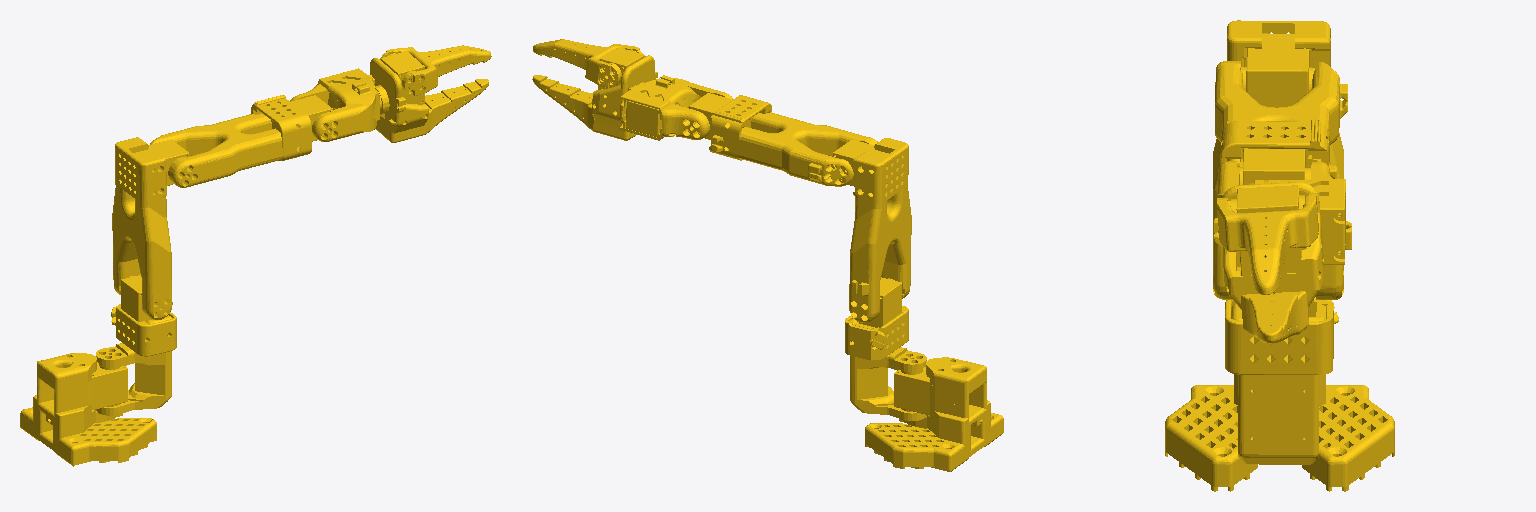
robot.urdf — Romanbo:
<?xml version="1.0" encoding="utf-8"?>
<!-- Romanbo arm - generated from SolidWorks assembly (measured joint axes).
     Joint axes were measured on the actual servo output shafts,
     so the changed servos are taken into account.
     NOTE: Zero configuration re-adjusted so that the former joint values
     (pan=-0.2, lift=0.98, elbow=0.49, wrist_flex=0.7, wrist_roll=1.65,
     gripper=-0.62) now correspond to joint positions of 0.
     Limits were shifted accordingly (-q0) to preserve the physical range. -->
<robot name="Romanbo">

  <material name="3d_printed"><color rgba="1.0 0.82 0.12 1.0"/></material>
  <material name="sts3215"><color rgba="0.1 0.1 0.1 1.0"/></material>

  <link name="base_link">
    <inertial>
      <origin xyz="0.0190056 -0.00000693 0.02669374" rpy="0 0 0"/>
      <mass value="0.15717756"/>
      <inertia ixx="0.00014067" ixy="-0.00000003" ixz="0.00001945" iyy="0.00011979" iyz="0" izz="0.00015252"/>
    </inertial>
    <visual>
      <origin xyz="0 0 0" rpy="0 0 0"/>
      <geometry><mesh filename="meshes/Romanbo_base.STL"/></geometry>
      <material name="3d_printed"/>
    </visual>
    <collision>
      <origin xyz="0 0 0" rpy="0 0 0"/>
      <geometry><mesh filename="meshes/Romanbo_base.STL"/></geometry>
    </collision>
  </link>

  <joint name="Romanbo_shoulder_pan" type="revolute">
    <origin xyz="0.04507171 0.00001297 0.04522959" rpy="3.14159265 0 -2.94159266"/>
    <parent link="base_link"/>
    <child link="shoulder_link"/>
    <axis xyz="0 0 1"/>
    <limit effort="10" velocity="10" lower="-1.91986" upper="1.91986"/>
  </joint>
  <transmission name="Romanbo_shoulder_pan_trans">
    <type>transmission_interface/SimpleTransmission</type>
    <joint name="Romanbo_shoulder_pan"><hardwareInterface>hardware_interface/PositionJointInterface</hardwareInterface></joint>
    <actuator name="motor1"><hardwareInterface>hardware_interface/PositionJointInterface</hardwareInterface><mechanicalReduction>1</mechanicalReduction></actuator>
  </transmission>

  <link name="shoulder_link">
    <inertial>
      <origin xyz="-0.03096877 -0.00697124 -0.03073694" rpy="0 0 0"/>
      <mass value="0.11234364"/>
      <inertia ixx="0.00005195" ixy="0.00000012" ixz="-0.00000289" iyy="0.0000519" iyz="-0.00000096" izz="0.00002905"/>
    </inertial>
    <visual>
      <origin xyz="0.04507171 -0.00001297 0.04522959" rpy="3.14159265 0 3.14159265"/>
      <geometry><mesh filename="meshes/Romanbo_shoulder.STL"/></geometry>
      <material name="3d_printed"/>
    </visual>
    <collision>
      <origin xyz="0.04507171 -0.00001297 0.04522959" rpy="3.14159265 0 3.14159265"/>
      <geometry><mesh filename="meshes/Romanbo_shoulder.STL"/></geometry>
    </collision>
  </link>

  <joint name="Romanbo_shoulder_lift" type="revolute">
    <origin xyz="-0.02971501 -0.00649727 -0.0724" rpy="-1.57079633 0.98 0.21526495"/>
    <parent link="shoulder_link"/>
    <child link="upper_arm_link"/>
    <axis xyz="0 0 1"/>
    <limit effort="10" velocity="10" lower="-1.74533" upper="1.74533"/>
  </joint>
  <transmission name="Romanbo_shoulder_lift_trans">
    <type>transmission_interface/SimpleTransmission</type>
    <joint name="Romanbo_shoulder_lift"><hardwareInterface>hardware_interface/PositionJointInterface</hardwareInterface></joint>
    <actuator name="motor2"><hardwareInterface>hardware_interface/PositionJointInterface</hardwareInterface><mechanicalReduction>1</mechanicalReduction></actuator>
  </transmission>

  <link name="upper_arm_link">
    <inertial>
      <origin xyz="0.05925617 0.04182487 -0.00022979" rpy="0 0 0"/>
      <mass value="0.15086353"/>
      <inertia ixx="0.00007472" ixy="-0.00003855" ixz="-0.00001244" iyy="0.00017003" iyz="-0.00000873" izz="0.00014543"/>
    </inertial>
    <visual>
      <origin xyz="0.07444572 -0.11762959 -0.00964027" rpy="1.57079633 -0.21526495 3.14159265"/>
      <geometry><mesh filename="meshes/Romanbo_upper_arm.STL"/></geometry>
      <material name="3d_printed"/>
    </visual>
    <collision>
      <origin xyz="0.07444572 -0.11762959 -0.00964027" rpy="1.57079633 -0.21526495 3.14159265"/>
      <geometry><mesh filename="meshes/Romanbo_upper_arm.STL"/></geometry>
    </collision>
  </link>

  <joint name="Romanbo_elbow_flex" type="revolute">
    <origin xyz="0.07960794 0.08406103 -0.0002" rpy="3.14159265 0 2.65159265"/>
    <parent link="upper_arm_link"/>
    <child link="lower_arm_link"/>
    <axis xyz="0 0 -1"/>
    <limit effort="10" velocity="10" lower="-1.69" upper="1.69"/>
  </joint>
  <transmission name="Romanbo_elbow_flex_trans">
    <type>transmission_interface/SimpleTransmission</type>
    <joint name="Romanbo_elbow_flex"><hardwareInterface>hardware_interface/PositionJointInterface</hardwareInterface></joint>
    <actuator name="motor3"><hardwareInterface>hardware_interface/PositionJointInterface</hardwareInterface><mechanicalReduction>1</mechanicalReduction></actuator>
  </transmission>

  <link name="lower_arm_link">
    <inertial>
      <origin xyz="0.06643411 0.03979496 0.00005434" rpy="0 0 0"/>
      <mass value="0.14069204"/>
      <inertia ixx="0.00008423" ixy="0.00003966" ixz="0.00000372" iyy="0.00009504" iyz="-0.00000762" izz="0.00009773"/>
    </inertial>
    <visual>
      <origin xyz="0.00516222 -0.20169063 0.00944027" rpy="-1.57079633 0.21526495 0"/>
      <geometry><mesh filename="meshes/Romanbo_lower_arm.STL"/></geometry>
      <material name="3d_printed"/>
    </visual>
    <collision>
      <origin xyz="0.00516222 -0.20169063 0.00944027" rpy="-1.57079633 0.21526495 0"/>
      <geometry><mesh filename="meshes/Romanbo_lower_arm.STL"/></geometry>
    </collision>
  </link>

  <joint name="Romanbo_wrist_flex" type="revolute">
    <origin xyz="0.11429786 0.07147737 -0.0002" rpy="3.14159265 0 2.44159265"/>
    <parent link="lower_arm_link"/>
    <child link="wrist_link"/>
    <axis xyz="0 0 1"/>
    <limit effort="10" velocity="10" lower="-1.65806" upper="1.65806"/>
  </joint>
  <transmission name="Romanbo_wrist_flex_trans">
    <type>transmission_interface/SimpleTransmission</type>
    <joint name="Romanbo_wrist_flex"><hardwareInterface>hardware_interface/PositionJointInterface</hardwareInterface></joint>
    <actuator name="motor4"><hardwareInterface>hardware_interface/PositionJointInterface</hardwareInterface><mechanicalReduction>1</mechanicalReduction></actuator>
  </transmission>

  <link name="wrist_link">
    <inertial>
      <origin xyz="-0.01172768 0.03274155 0.00740688" rpy="0 0 0"/>
      <mass value="0.06488907"/>
      <inertia ixx="0.00003049" ixy="0.00000157" ixz="0.00000305" iyy="0.00002306" iyz="-0.00000174" izz="0.00001822"/>
    </inertial>
    <visual>
      <origin xyz="0.10913564 -0.273168 -0.00964027" rpy="1.57079633 -0.21526495 3.14159265"/>
      <geometry><mesh filename="meshes/Romanbo_wrist.STL"/></geometry>
      <material name="3d_printed"/>
    </visual>
    <collision>
      <origin xyz="0.10913564 -0.273168 -0.00964027" rpy="1.57079633 -0.21526495 3.14159265"/>
      <geometry><mesh filename="meshes/Romanbo_wrist.STL"/></geometry>
    </collision>
  </link>

  <joint name="Romanbo_wrist_roll" type="revolute">
    <origin xyz="-0.01404151 0.03907096 0.0003" rpy="-1.57079634 -1.28897173 0.34941774"/>
    <parent link="wrist_link"/>
    <child link="gripper_link"/>
    <axis xyz="0 0 -1"/>
    <limit effort="10" velocity="10" lower="-2.79253" upper="2.79253"/>
  </joint>
  <transmission name="Romanbo_wrist_roll_trans">
    <type>transmission_interface/SimpleTransmission</type>
    <joint name="Romanbo_wrist_roll"><hardwareInterface>hardware_interface/PositionJointInterface</hardwareInterface></joint>
    <actuator name="motor5"><hardwareInterface>hardware_interface/PositionJointInterface</hardwareInterface><mechanicalReduction>1</mechanicalReduction></actuator>
  </transmission>

  <link name="gripper_link">
    <inertial>
      <origin xyz="-0.00086595 -0.00566132 0.04465906" rpy="0 0 0"/>
      <mass value="0.0917235"/>
      <inertia ixx="0.0000426" ixy="0.00000357" ixz="-0.00000834" iyy="0.00003949" iyz="0.00000776" izz="0.00003688"/>
    </inertial>
    <visual>
      <origin xyz="-0.01065811 -0.00795826 -0.33554084" rpy="-0.07767486 -0.34102078 0.0260248"/>
      <geometry><mesh filename="meshes/Romanbo_gripper.STL"/></geometry>
      <material name="3d_printed"/>
    </visual>
    <collision>
      <origin xyz="-0.01065811 -0.00795826 -0.33554084" rpy="-0.07767486 -0.34102078 0.0260248"/>
      <geometry><mesh filename="meshes/Romanbo_gripper.STL"/></geometry>
    </collision>
  </link>

  <joint name="Romanbo_gripper" type="revolute">
    <origin xyz="0.00423498 0.01954648 0.04158296" rpy="1.57079633 0.62391439 -1.78416044"/>
    <parent link="gripper_link"/>
    <child link="moving_jaw_link"/>
    <axis xyz="0 0 1"/>
    <limit effort="10" velocity="10" lower="-0.33993" upper="1.57993"/>
  </joint>
  <transmission name="Romanbo_gripper_trans">
    <type>transmission_interface/SimpleTransmission</type>
    <joint name="Romanbo_gripper"><hardwareInterface>hardware_interface/PositionJointInterface</hardwareInterface></joint>
    <actuator name="motor6"><hardwareInterface>hardware_interface/PositionJointInterface</hardwareInterface><mechanicalReduction>1</mechanicalReduction></actuator>
  </transmission>

  <link name="moving_jaw_link">
    <inertial>
      <origin xyz="-0.0179688 0.02422444 0.00093306" rpy="0 0 0"/>
      <mass value="0.02056095"/>
      <inertia ixx="0.00000816" ixy="-0.00000139" ixz="0.00000369" iyy="0.00000855" iyz="0.00000105" izz="0.00000674"/>
    </inertial>
    <visual>
      <origin xyz="0.03151062 -0.37700335 0.00873128" rpy="0.55274908 1.1568459 2.16372407"/>
      <geometry><mesh filename="meshes/Romanbo_jaw.STL"/></geometry>
      <material name="3d_printed"/>
    </visual>
    <collision>
      <origin xyz="0.03151062 -0.37700335 0.00873128" rpy="0.55274908 1.1568459 2.16372407"/>
      <geometry><mesh filename="meshes/Romanbo_jaw.STL"/></geometry>
    </collision>
  </link>

</robot>

--- Render facts (derived) ---
The picture shows the robot from 3 angles, left to right: view 1: azimuth 30°, elevation 25°; view 2: azimuth 150°, elevation 25°; view 3: azimuth 270°, elevation 25°; orthographic projection.
Robot: Romanbo — 7 links, 6 joints (6 revolute); root link base_link; default pose: all joints at 0.
Links seen in each view (by area): view 1: base_link, upper_arm_link, lower_arm_link, shoulder_link, gripper_link, wrist_link, moving_jaw_link; view 2: base_link, upper_arm_link, lower_arm_link, shoulder_link, wrist_link, gripper_link, moving_jaw_link; view 3: base_link, shoulder_link, lower_arm_link, upper_arm_link, gripper_link, moving_jaw_link, wrist_link.
Boxes of the visible links, x1,y1,x2,y2 form: base_link: [20, 353, 156, 466]; upper_arm_link: [112, 137, 188, 319]; lower_arm_link: [150, 95, 332, 187]; shoulder_link: [96, 275, 176, 415]; gripper_link: [370, 51, 488, 142]; wrist_link: [290, 68, 381, 141]; moving_jaw_link: [380, 45, 491, 95]; base_link: [865, 357, 1003, 471]; upper_arm_link: [833, 138, 911, 322]; lower_arm_link: [689, 93, 877, 186]; shoulder_link: [845, 277, 926, 420]; wrist_link: [619, 75, 732, 140]; gripper_link: [532, 47, 657, 140]; moving_jaw_link: [533, 39, 642, 87]; base_link: [1165, 374, 1394, 491]; shoulder_link: [1225, 297, 1338, 464]; lower_arm_link: [1215, 61, 1347, 184]; upper_arm_link: [1213, 20, 1351, 299]; gripper_link: [1213, 182, 1323, 343]; moving_jaw_link: [1217, 193, 1318, 294]; wrist_link: [1217, 161, 1345, 264].
Size in the robot's own frame: 0.4165 by 0.1109 by 0.2742 metres.
7 mesh visuals loaded from 7 distinct referenced files (7 binary STL).
